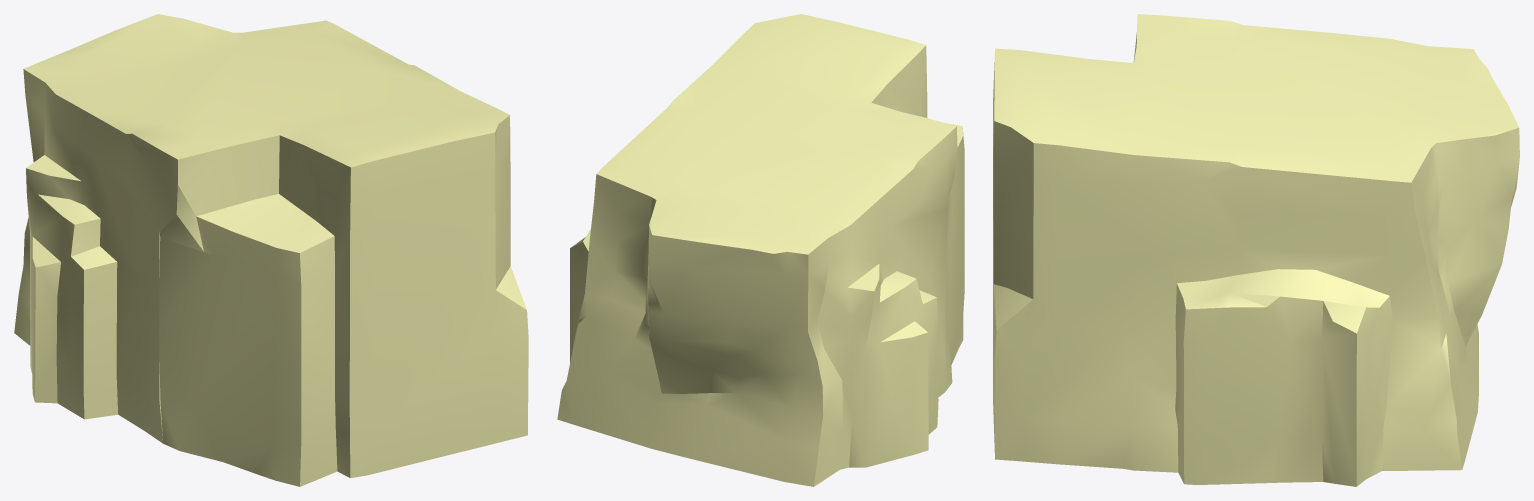
Rendered from MangaKa Props - N_R_Veg_Rocks_39.glb.
3 renders of one model, left to right at view 1: azimuth 30°, elevation 25°; view 2: azimuth 150°, elevation 25°; view 3: azimuth 270°, elevation 25°, orthographic. The views are drawn at different scales.
Parts seen in each view (by area): view 1: N_R_Veg_Rocks_39_blueScreen; view 2: N_R_Veg_Rocks_39_blueScreen; view 3: N_R_Veg_Rocks_39_blueScreen.
Part boxes in pixels (x1=…): N_R_Veg_Rocks_39_blueScreen: x1=14, y1=14, x2=528, y2=486; N_R_Veg_Rocks_39_blueScreen: x1=557, y1=14, x2=964, y2=486; N_R_Veg_Rocks_39_blueScreen: x1=993, y1=14, x2=1519, y2=486.
Bounding box in the file's own units: 11.35 × 8.73 × 12.76.
